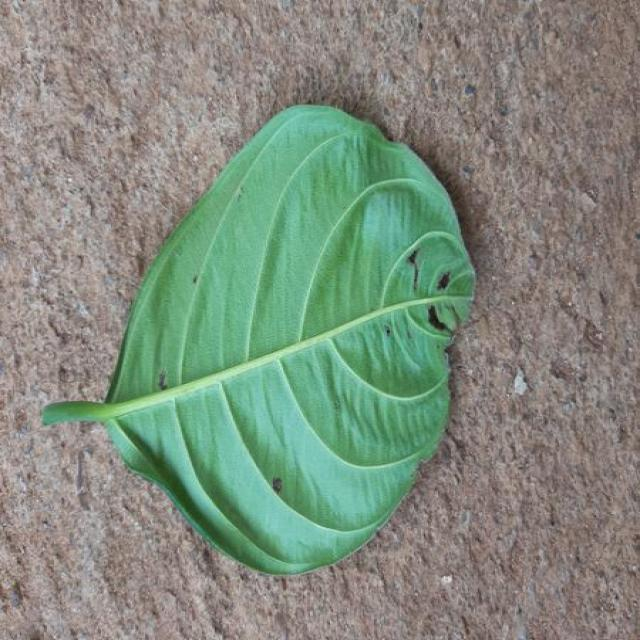Jackfruit: (43, 105, 473, 574)
